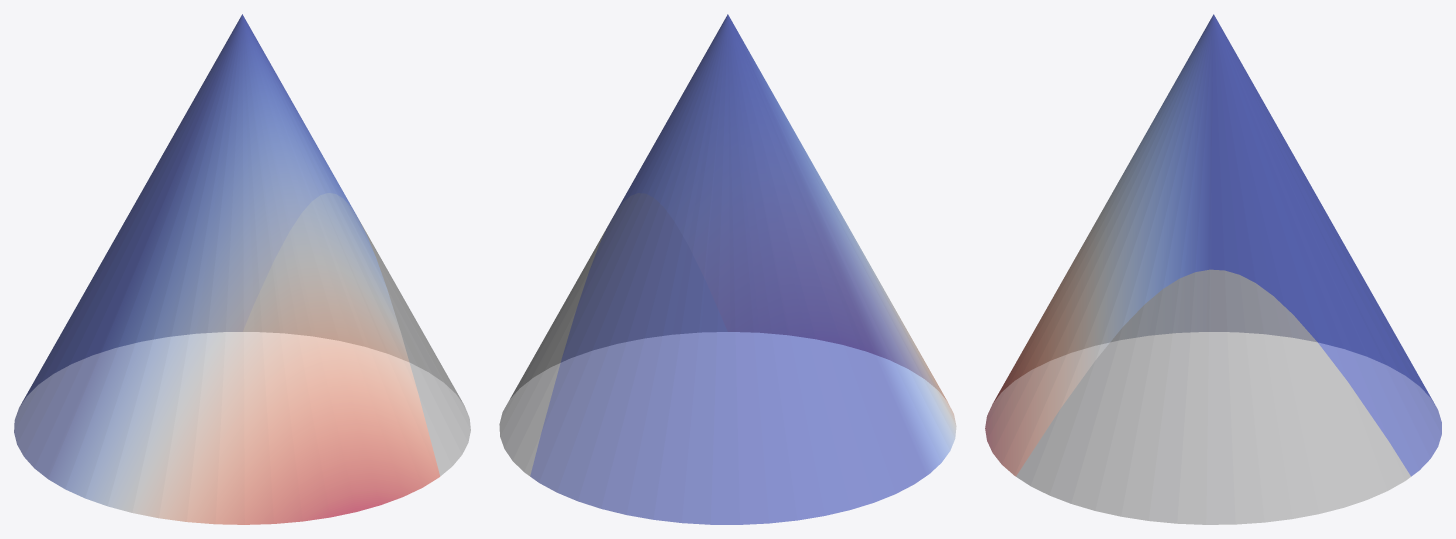
The picture shows the model from 3 angles, left to right: view 1: azimuth 30°, elevation 25°; view 2: azimuth 150°, elevation 25°; view 3: azimuth 270°, elevation 25°; orthographic projection.
Parts seen in each view (by area): view 1: Renderer Node; view 2: Renderer Node; view 3: Renderer Node.
Part boxes in pixels (<box>): Renderer Node: <box>14,14,470,524</box>; Renderer Node: <box>499,14,956,524</box>; Renderer Node: <box>985,14,1441,524</box>.
Bounding box in the file's own units: 2 × 2 × 2.
1 material, 1 textured.
